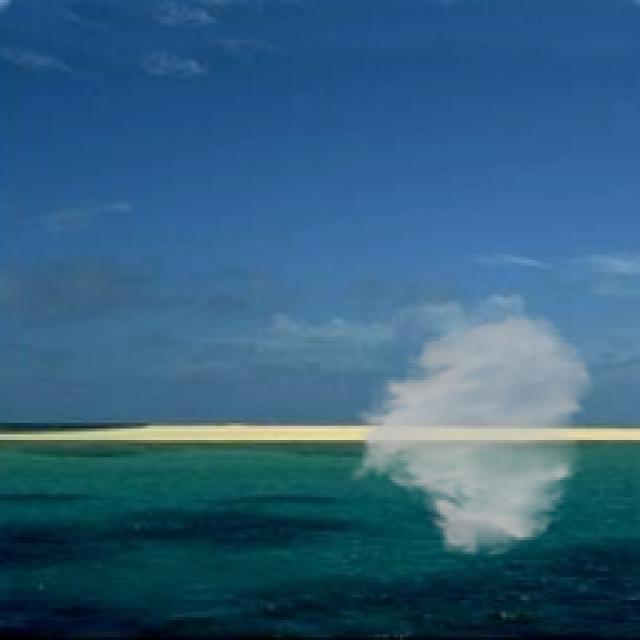Smoke: (346, 311, 598, 560)
